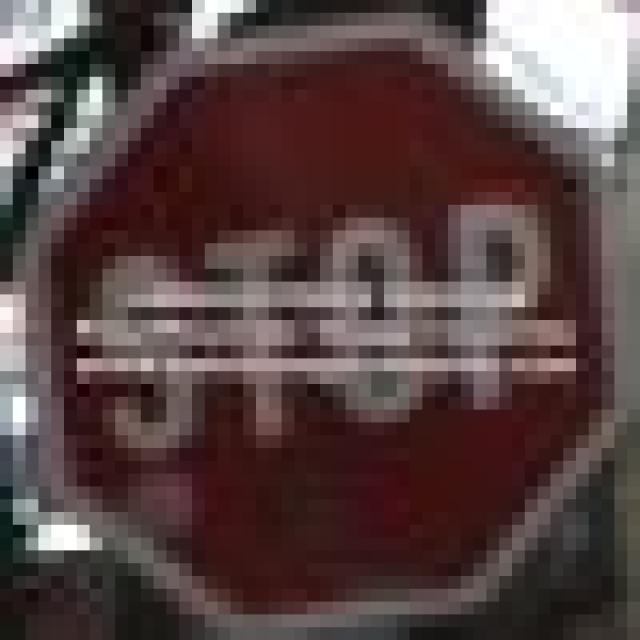STOP: (26, 13, 614, 589)
